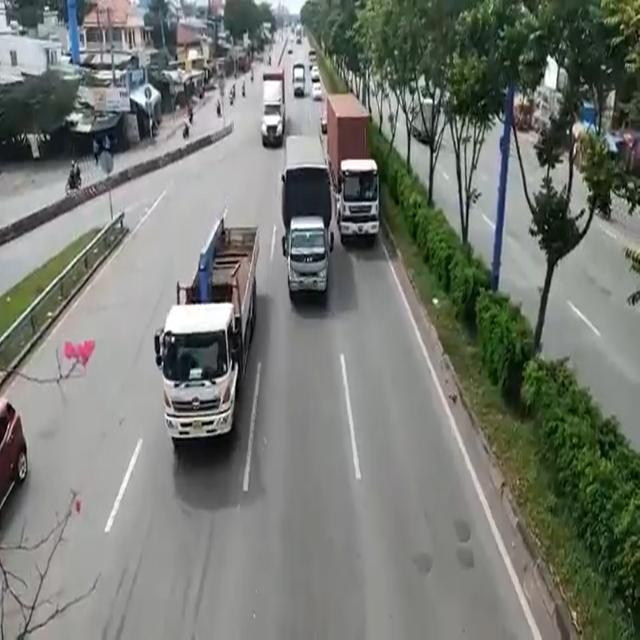truck: (166, 214, 245, 439), (327, 88, 381, 240), (283, 137, 329, 298), (265, 68, 280, 141)
